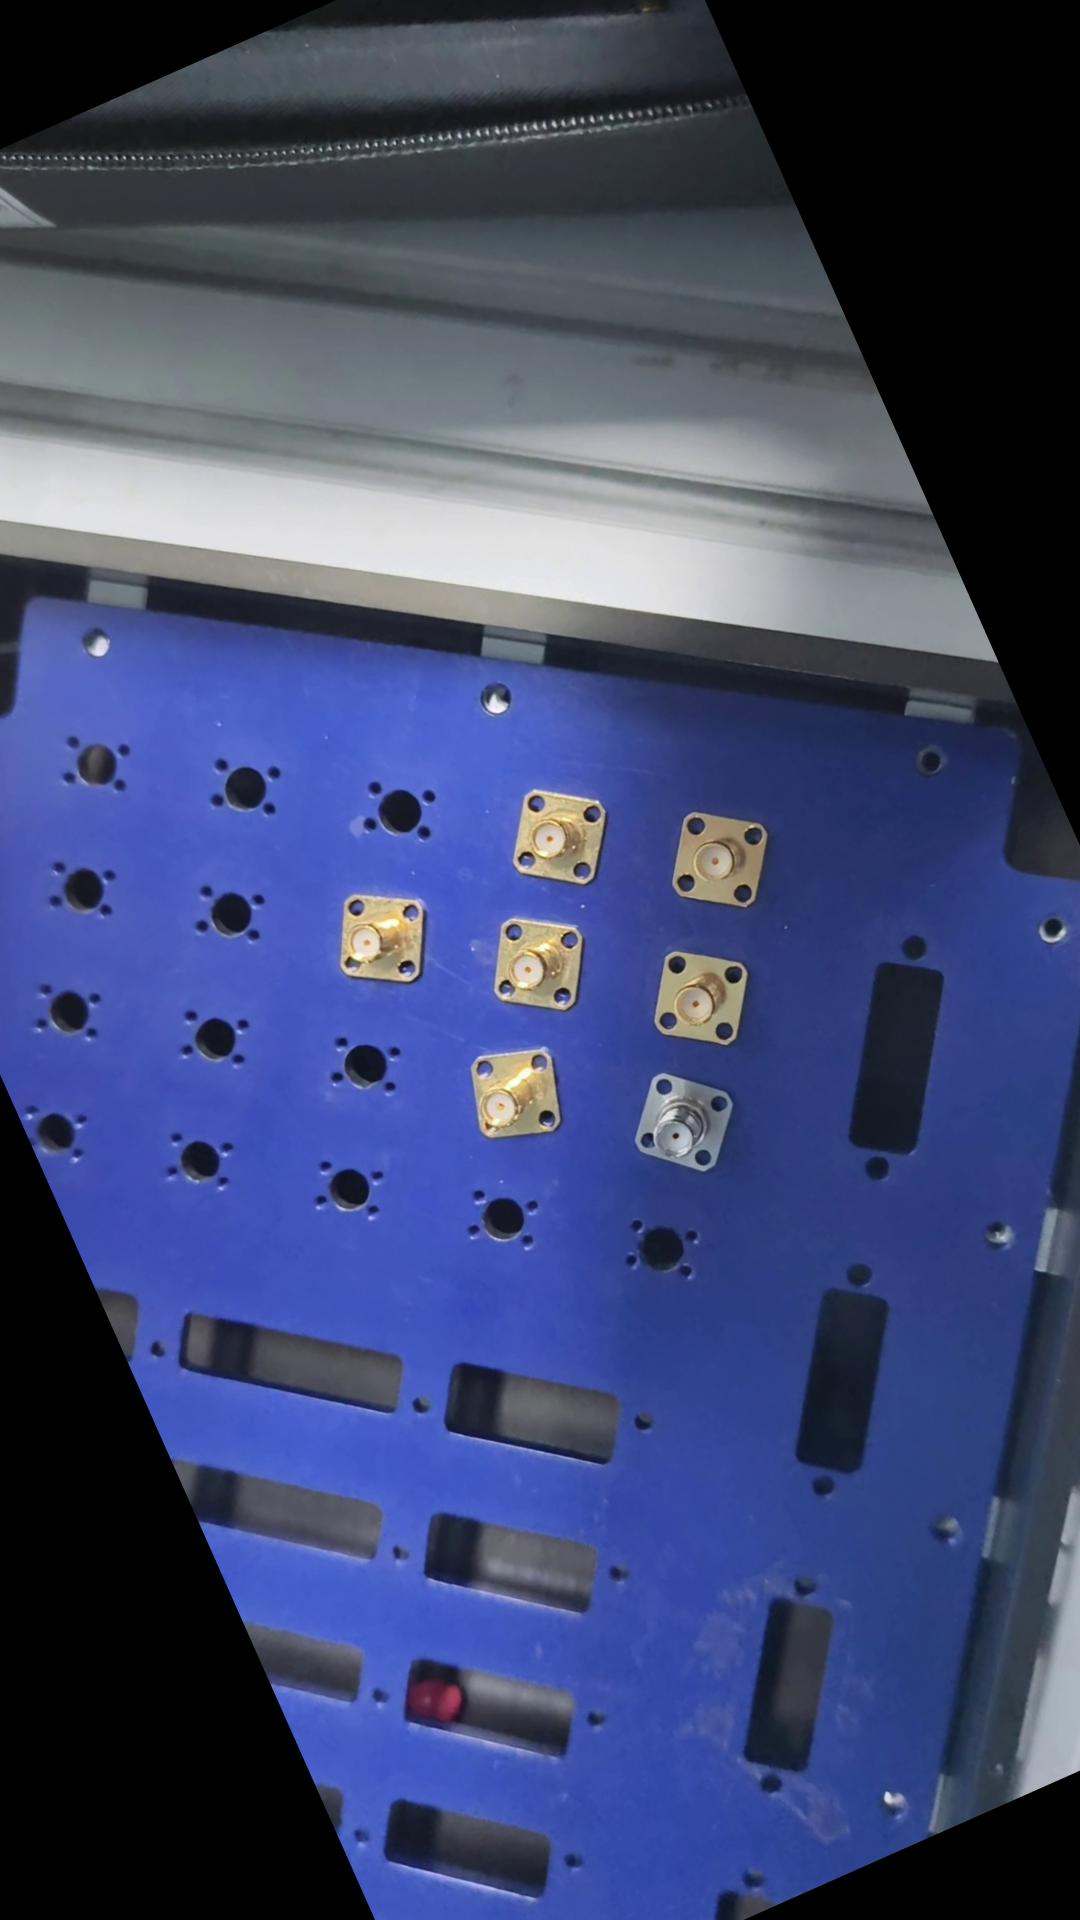SMA: (604, 1043, 756, 1200), (621, 920, 771, 1069), (481, 758, 625, 909), (647, 787, 789, 928), (436, 1033, 582, 1167), (467, 895, 605, 1034), (311, 866, 443, 1001)
